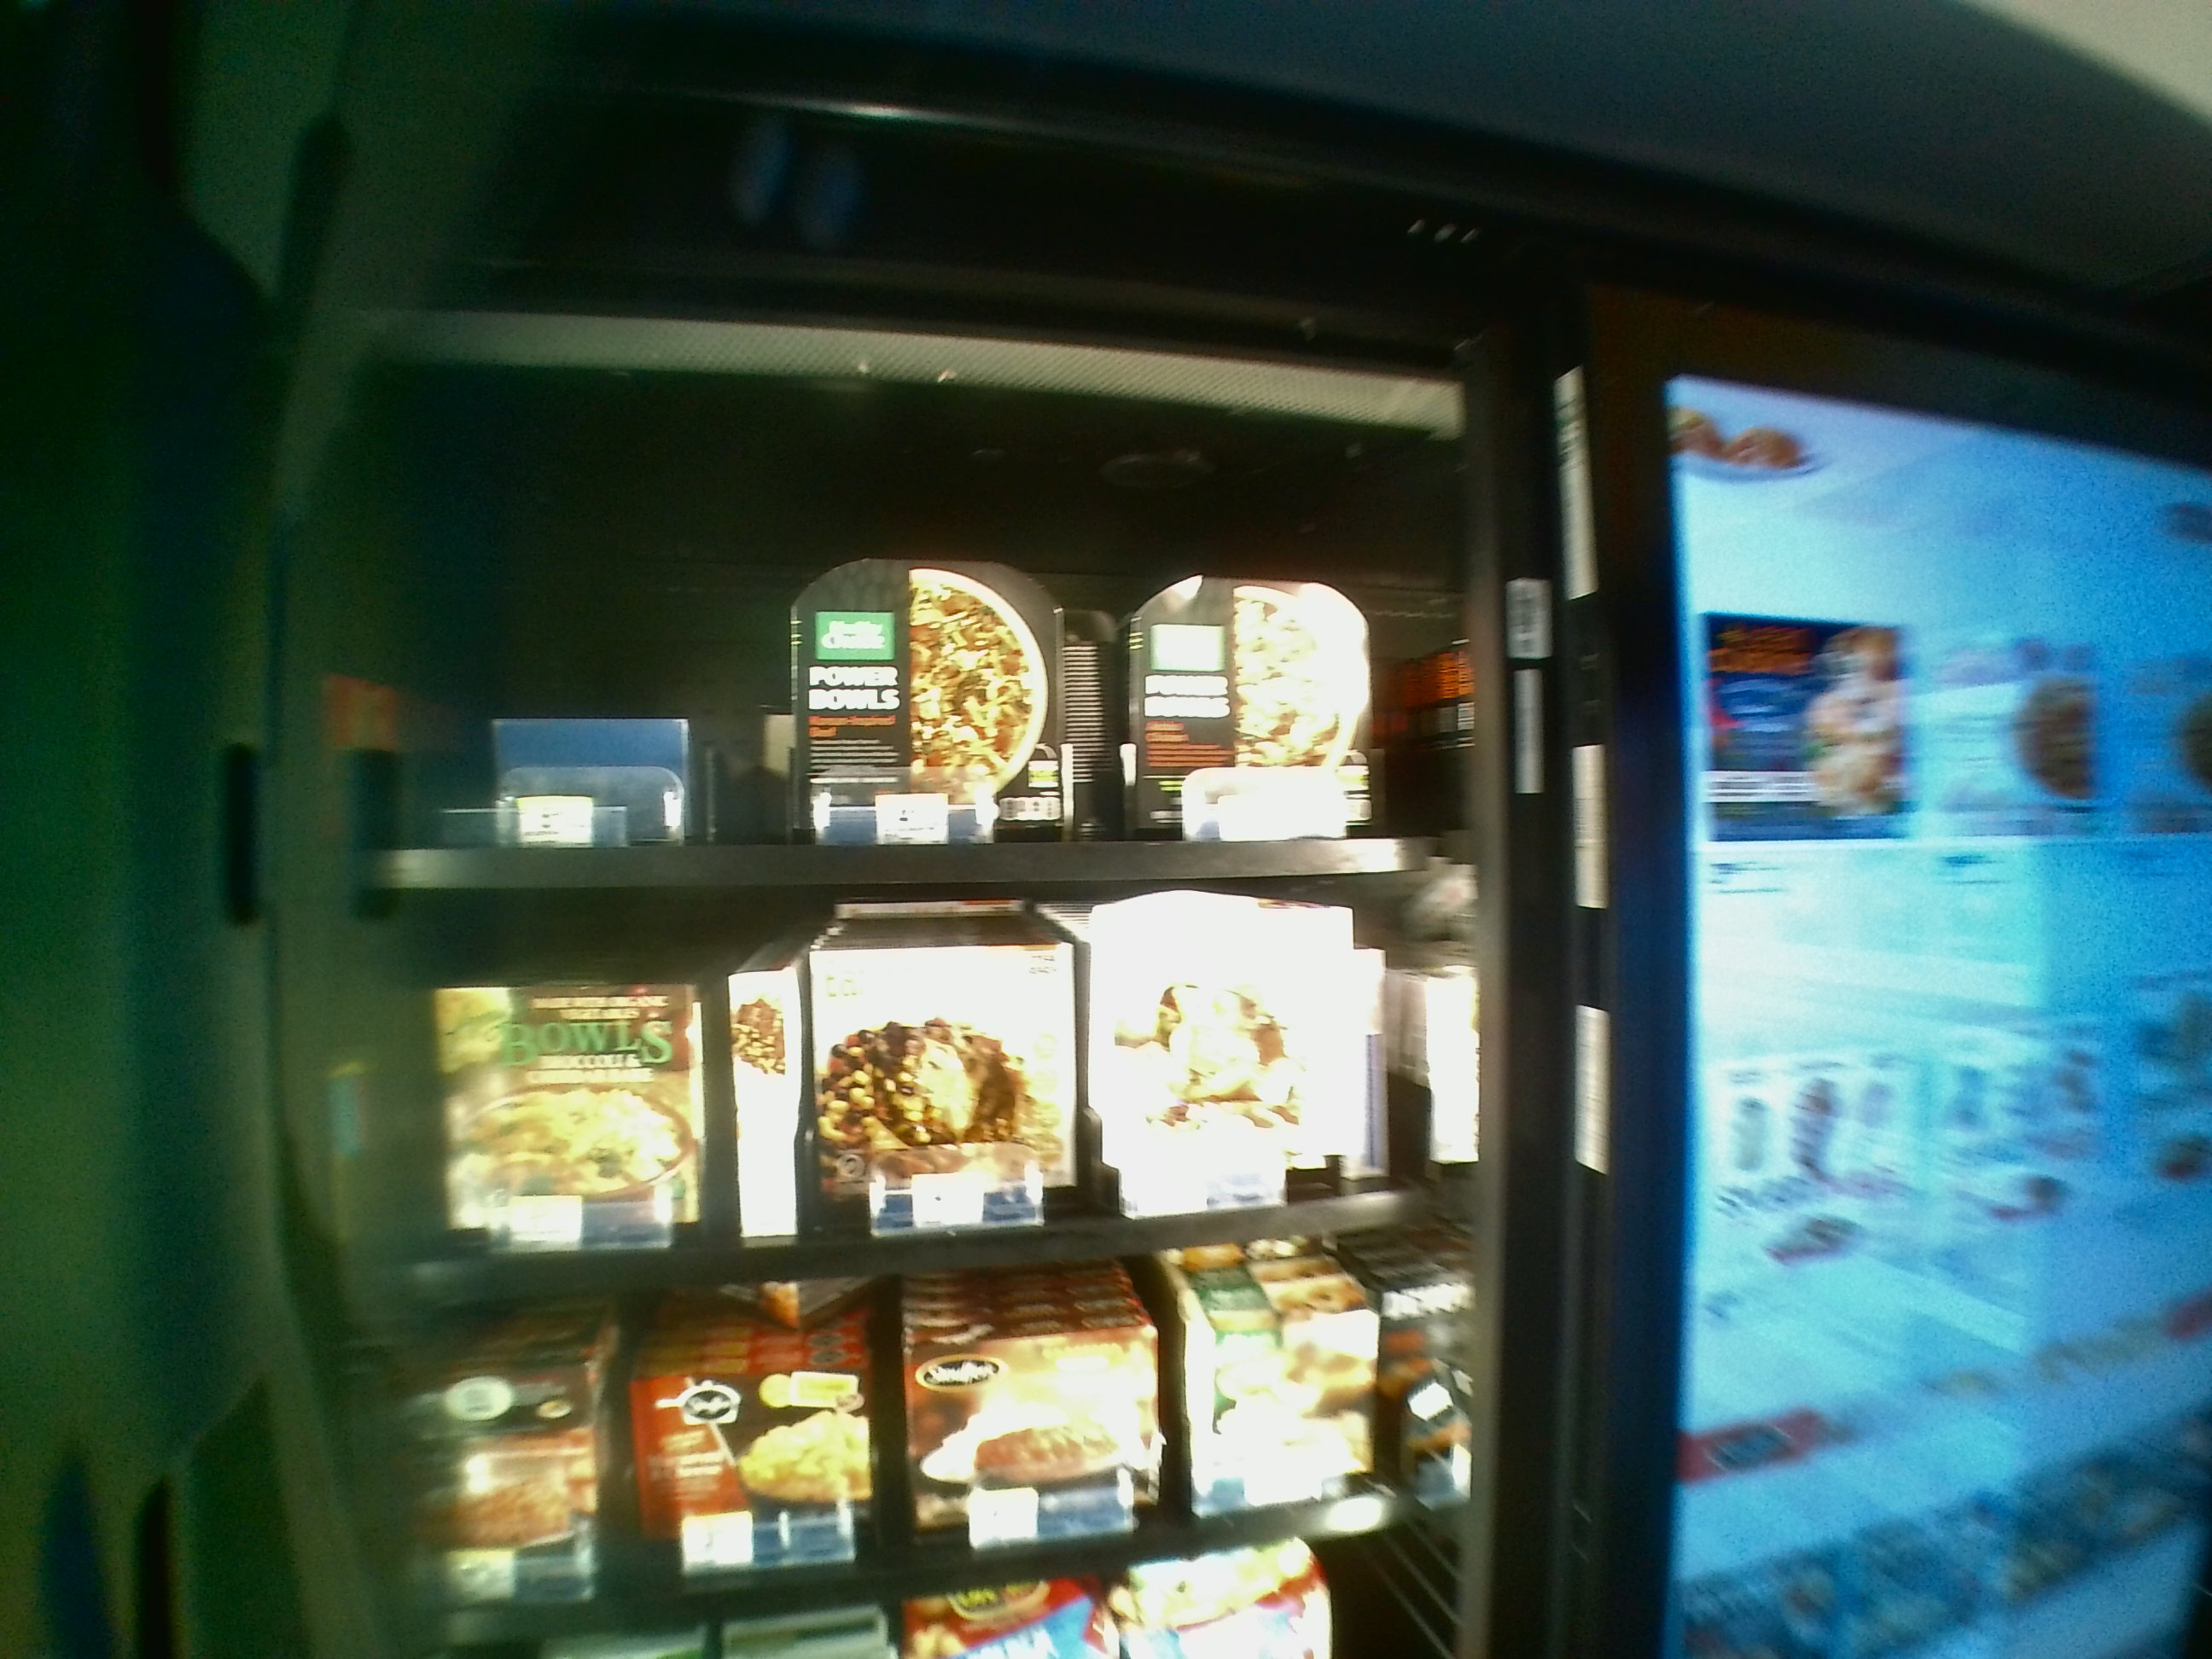shelf: (355, 430, 1465, 889), (348, 903, 1468, 1279)
